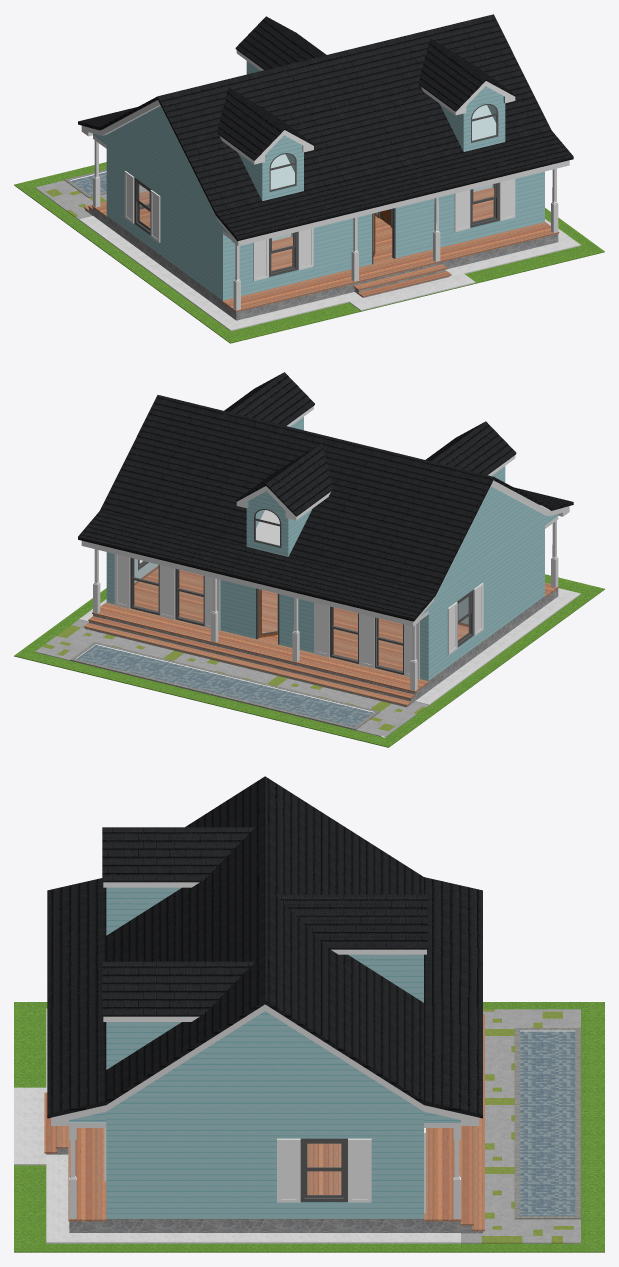
File: Cape Cod House.glb
The picture shows the model from 3 angles, top to bottom: view 1: azimuth 30°, elevation 25°; view 2: azimuth 150°, elevation 25°; view 3: azimuth 270°, elevation 25°; orthographic projection. The views are drawn at different scales.
Parts seen in each view (by area): view 1: group_13.002, group_38.004, group_45, group_4.001, group_39.001, group_4.003, group_39.006, group_13.004, group_49.005, group_46.005, group_42.005, group_45.002 (+10 smaller); view 2: group_13.002, group_38.004, group_14, group_39.001, group_4.001, group_5.001, group_7.003, group_39.006, group_13.004, group_42.005, group_49.005, group_46.005 (+12 smaller); view 3: group_13.002, group_38.004, group_4.001, group_13.008, group_45, group_14, group_5.001, group_4.003, group_7.003, group_39.001, group_46.005, group_49.005 (+15 smaller).
Part boxes in pixels (x1,y1,x2,y2): group_13.002: (99,14,551,215); group_38.004: (106,135,544,300); group_45: (216,130,573,241); group_4.001: (14,162,604,343); group_39.001: (92,187,559,312); group_4.003: (79,216,580,330); group_39.006: (85,208,558,320); group_13.004: (107,106,214,213); group_49.005: (217,87,314,160); group_46.005: (418,38,516,111); group_42.005: (235,16,326,69); group_45.002: (218,160,569,246); group_13.002: (100,395,551,595); group_38.004: (106,515,544,680); group_14: (78,511,435,621); group_39.001: (92,568,559,692); group_4.001: (14,574,604,747); group_5.001: (77,645,373,726); group_7.003: (35,619,428,737); group_39.006: (85,588,558,707); group_13.004: (437,486,544,593); group_42.005: (235,443,333,516); group_49.005: (426,421,516,474); group_46.005: (224,372,314,425); group_13.002: (106,776,423,1104); group_38.004: (106,1108,423,1218); group_4.001: (14,1002,604,1252); group_13.008: (111,1011,418,1108); group_45: (47,878,106,1118); group_14: (424,877,482,1118); group_5.001: (520,1031,575,1215); group_4.003: (14,1008,460,1243); group_7.003: (461,1009,580,1243); group_39.001: (68,1126,461,1221); group_46.005: (102,961,254,1016); group_49.005: (102,827,254,882).
Size of what is drawn, in the model's own units: 16 by 7.19 by 16.
Materials: 17 (12 with a texture image).
